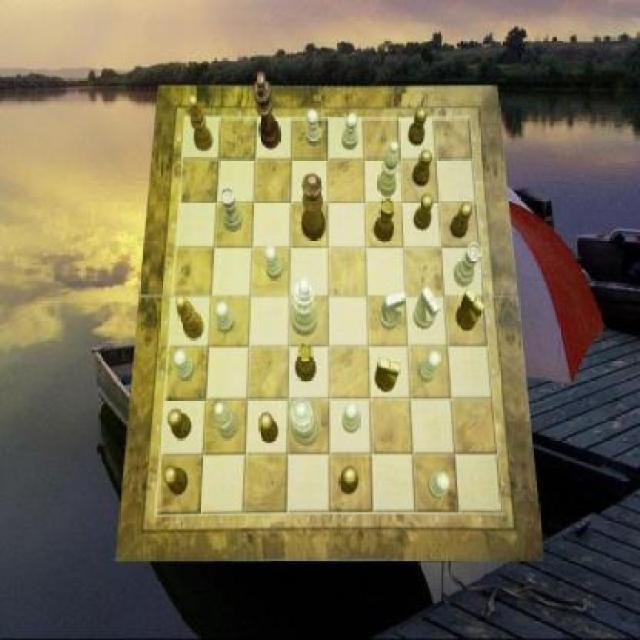bishop: (189, 96, 214, 152), (177, 296, 205, 340)
black-bishop: (254, 71, 281, 148)
black-king: (457, 288, 485, 332), (376, 357, 402, 391)
black-knight: (451, 202, 474, 238), (164, 464, 188, 496), (414, 192, 434, 230), (412, 149, 432, 187), (168, 409, 192, 440), (408, 108, 427, 146), (260, 412, 280, 445), (340, 466, 360, 494)
black-pawn: (302, 174, 326, 240)
black-queen: (374, 197, 396, 242), (296, 343, 316, 383)
black-rook: (377, 142, 399, 196), (214, 402, 238, 439)
white-bishop: (290, 277, 318, 337)
white-king: (412, 288, 440, 330), (378, 291, 406, 331)
white-knight: (418, 351, 442, 383), (173, 351, 194, 383), (216, 301, 236, 334), (306, 109, 322, 147), (342, 112, 358, 150), (265, 245, 282, 279), (428, 472, 450, 498), (342, 401, 359, 434)
white-pawn: (291, 397, 320, 446)
white-queen: (454, 241, 481, 287), (220, 188, 243, 233)
